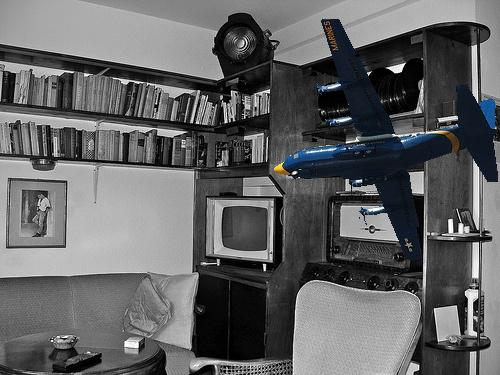tampered: (275, 20, 498, 260)
